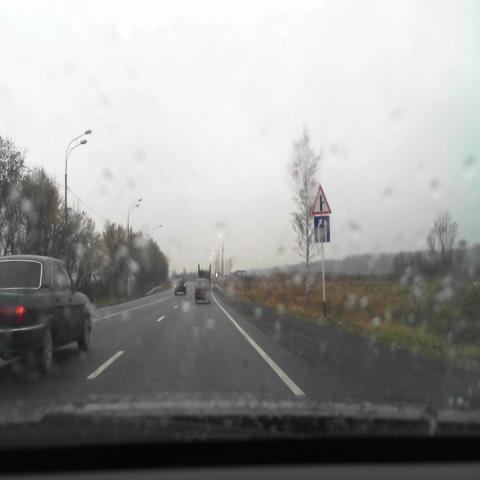2_3_2: (312, 185, 332, 215)
